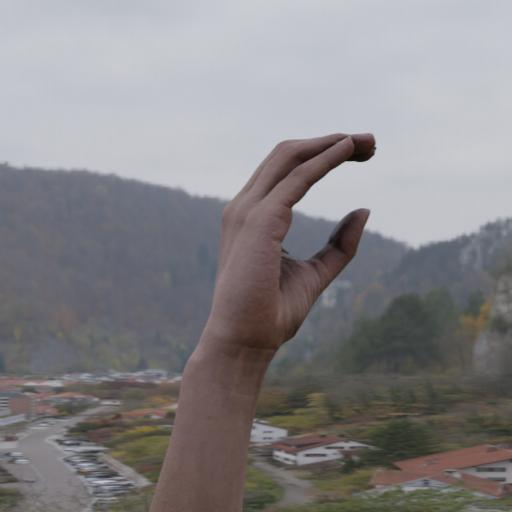C: (208, 128, 380, 354)
